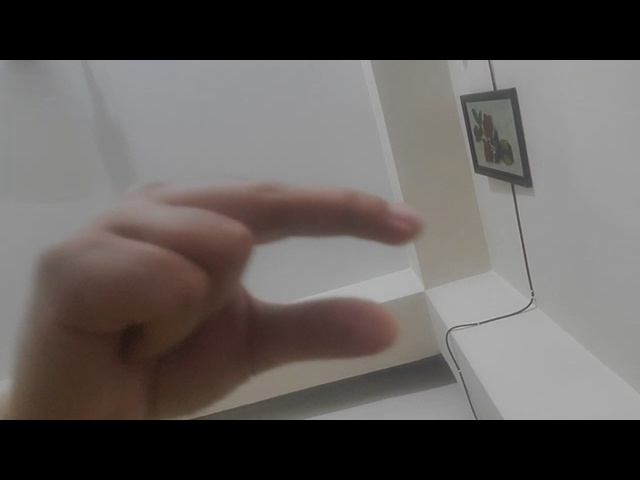No: (4, 170, 439, 415)
